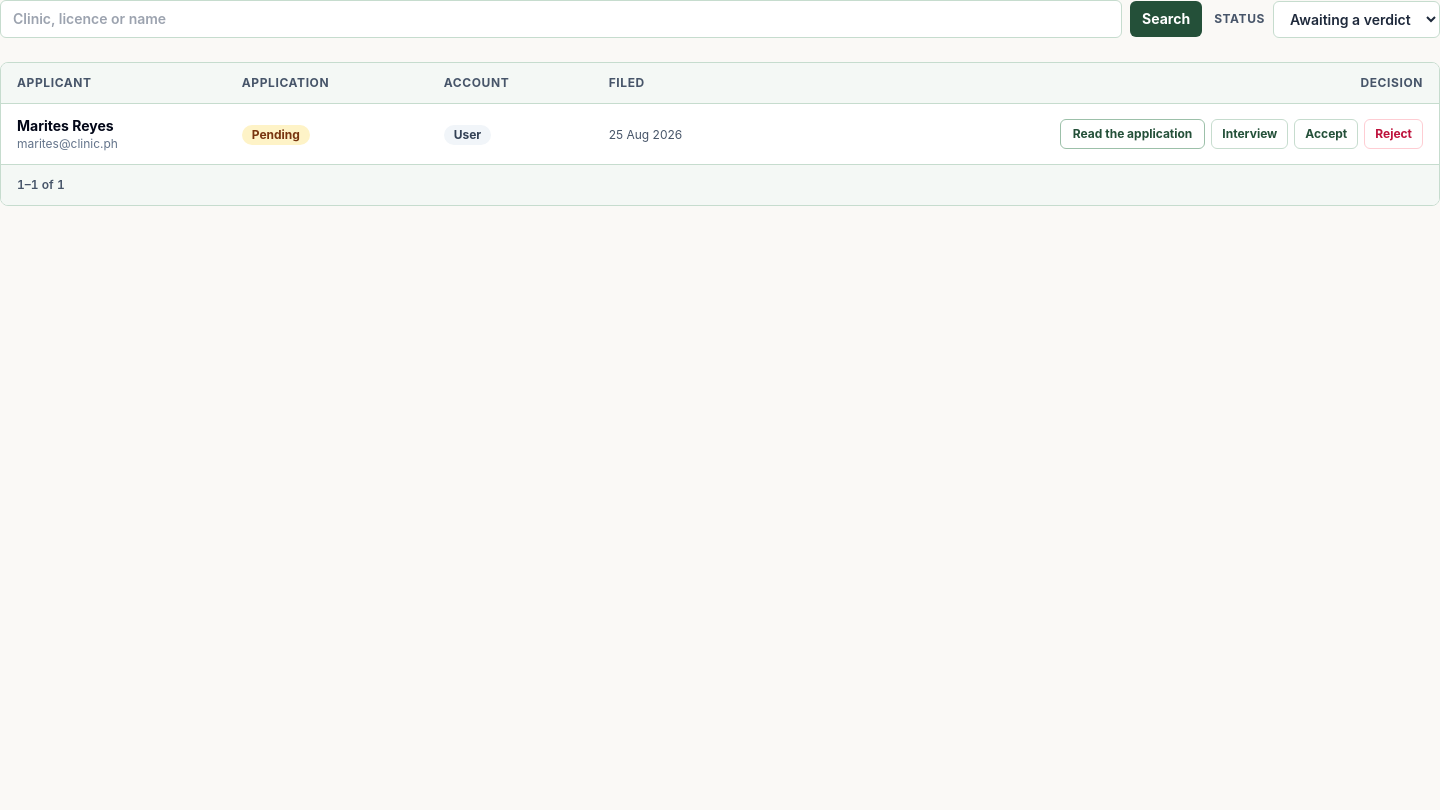
Test: reading the submission › keeps the submission out of the queue until it is asked for
Expected: the text "Fifteen years of small animal practice." is not shown
Click the button "Read the application" at point(1133, 134), box [1060,119,1205,149]
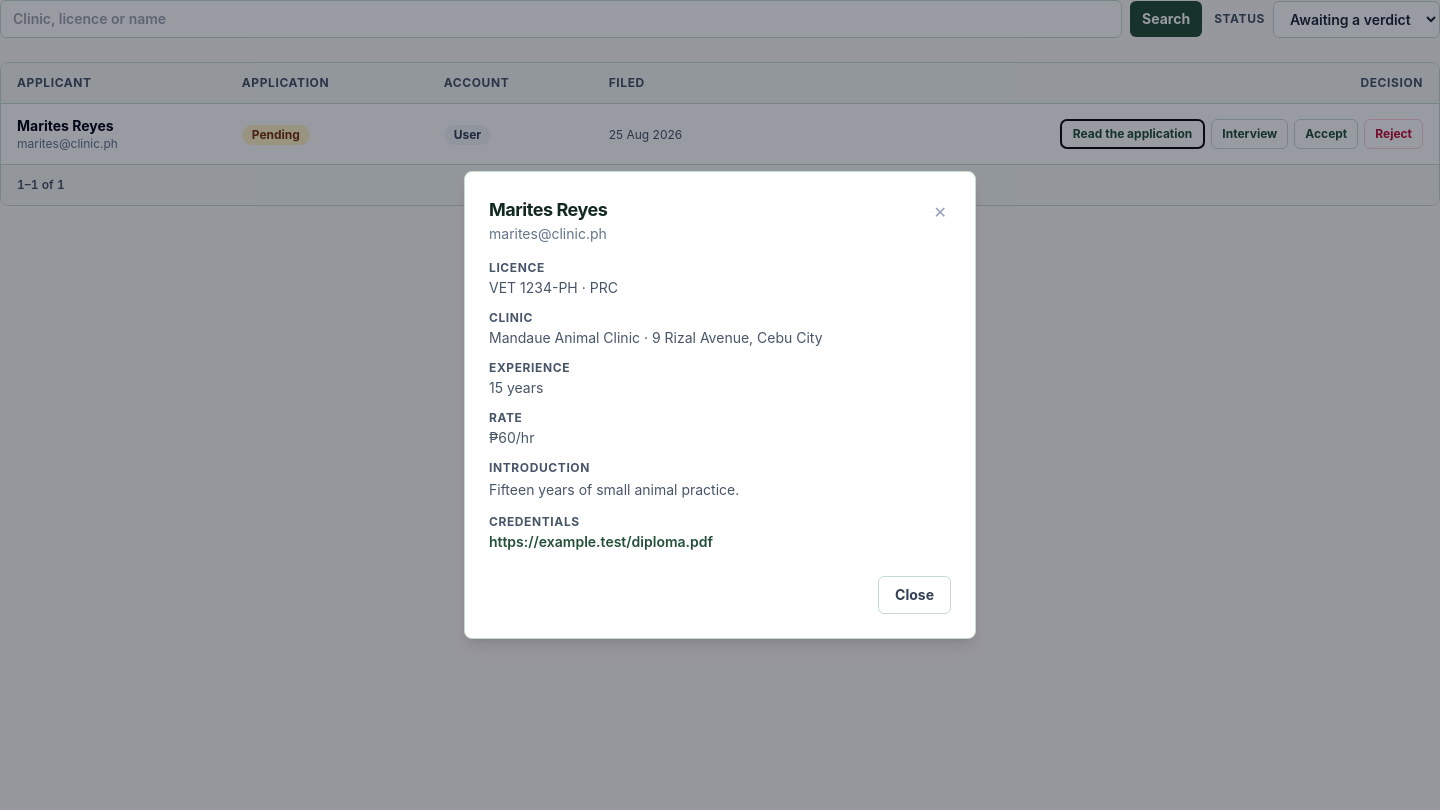
Result: the text "VET 1234-PH · PRC" is shown at [489,279,618,296]
Result: the text "Fifteen years of small animal practice." is shown at [489,481,739,498]
